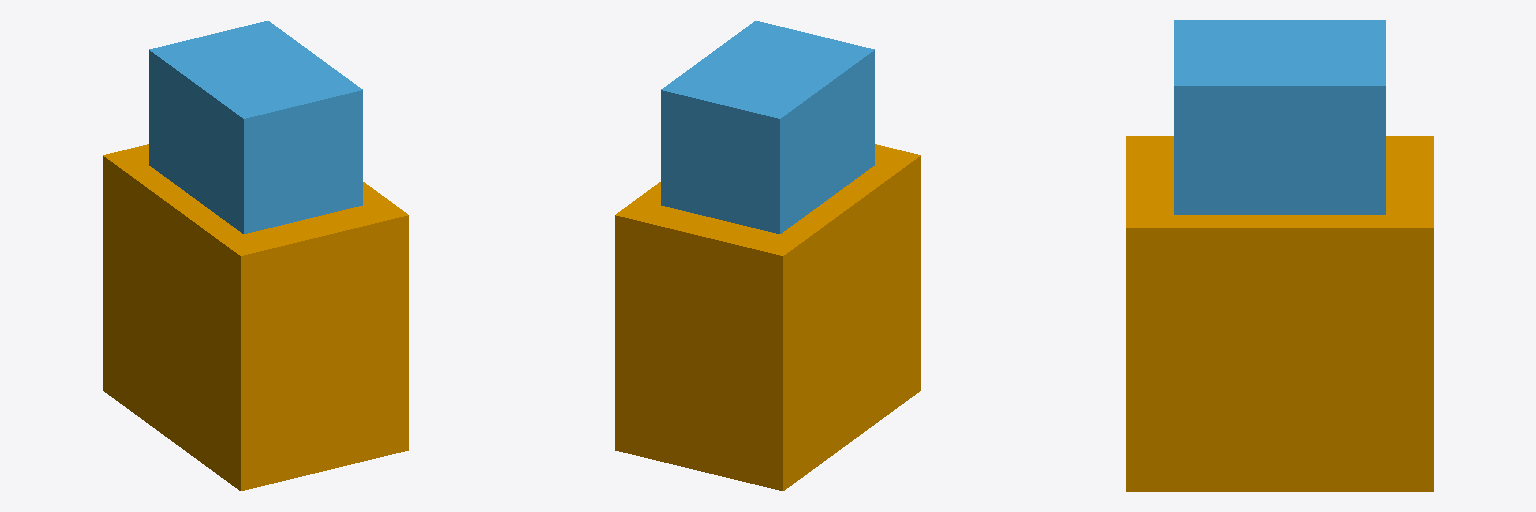
The robot description file, URDF, robot "simple_articulated":
<robot name="simple_articulated">
  <link name="base_link">
    <visual>
      <geometry>
        <box size="1.2 1.7 1.6"/>
      </geometry>
      <origin xyz="0 0 0"/>
    </visual>
    <collision>
      <geometry>
        <box size="1.2 1.7 1.6"/>
      </geometry>
      <origin xyz="0 0 0"/>
    </collision>
  </link>

  <link name="moving_link">
    <visual>
      <geometry>
        <box size="0.85 1.17 1.17"/>
      </geometry>
      <origin xyz="0 0 0"/>
    </visual>
    <collision>
      <geometry>
        <box size="0.85 1.17 1.17"/>
      </geometry>
      <origin xyz="0 0 0"/>
    </collision>
  </link>

  <joint name="revolute_joint" type="revolute">
    <parent link="base_link"/>
    <child link="moving_link"/>
    <origin xyz="0 0 1"/>
    <axis xyz="0 0 1"/>
    <limit lower="-1.57" upper="1.57" effort="1.0" velocity="1.0"/>
  </joint>
</robot>

--- What the picture shows (computed from the rendered views, not written in the file) ---
The picture shows the robot from 3 angles, left to right: view 1: azimuth 30°, elevation 25°; view 2: azimuth 150°, elevation 25°; view 3: azimuth 270°, elevation 25°; orthographic projection.
Model simple_articulated with 2 links and 1 joints (1 revolute), rooted at base_link, posed all joints at 0.
Links seen in each view (by area): view 1: base_link, moving_link; view 2: base_link, moving_link; view 3: base_link, moving_link.
Boxes of the visible links, left/top/right/bottom form: base_link: left=103, top=144, right=408, bottom=490; moving_link: left=149, top=21, right=362, bottom=233; base_link: left=615, top=144, right=920, bottom=490; moving_link: left=661, top=21, right=874, bottom=233; base_link: left=1126, top=136, right=1433, bottom=491; moving_link: left=1174, top=20, right=1385, bottom=214.
Bounding box of the posed robot: 1.2 × 1.7 × 2.38 m (x, y, z).
Geometry: primitives only (box / cylinder / sphere), no mesh files.